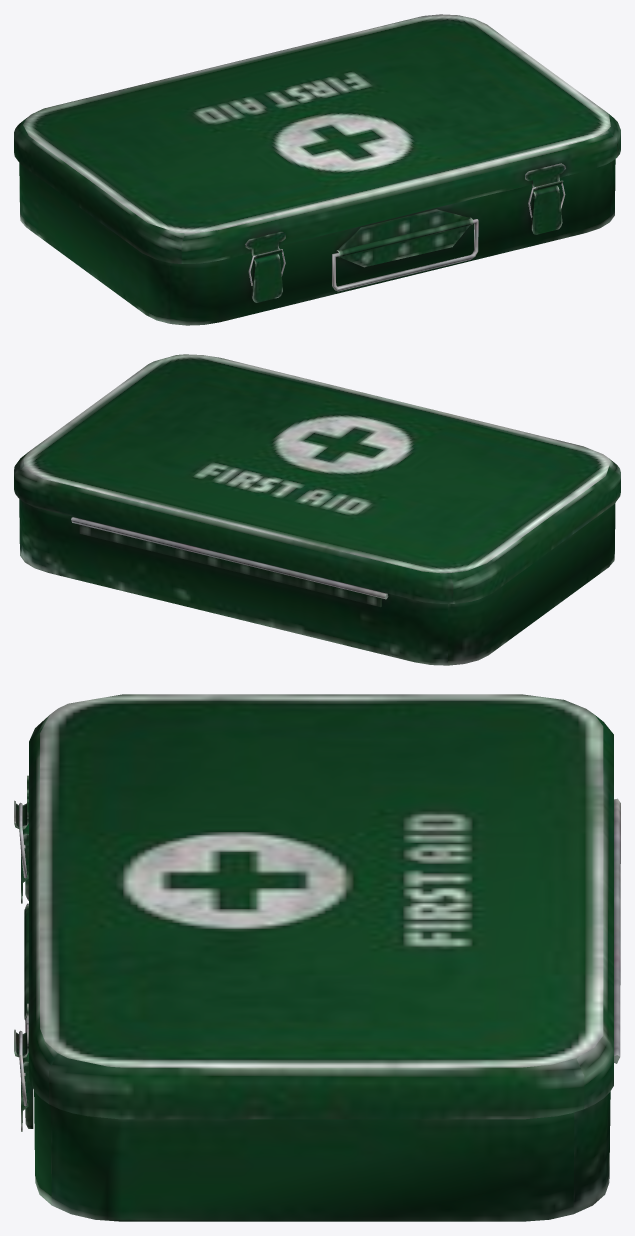
File: medical_box.gltf
The picture shows the model from 3 angles, top to bottom: view 1: azimuth 30°, elevation 25°; view 2: azimuth 150°, elevation 25°; view 3: azimuth 270°, elevation 25°; orthographic projection. The views are drawn at different scales.
Parts seen in each view (by area): view 1: medical_box_lid, medical_box, medical_box_latch, medical_box_handle; view 2: medical_box_lid, medical_box; view 3: medical_box_lid, medical_box.
Boxes of the visible parts, box(x1,y1,x2,y2) form: medical_box_lid: box(14, 14, 620, 263); medical_box: box(19, 159, 615, 325); medical_box_latch: box(251, 185, 562, 302); medical_box_handle: box(332, 219, 478, 291); medical_box_lid: box(14, 354, 620, 603); medical_box: box(19, 499, 615, 665); medical_box_lid: box(14, 694, 613, 1119); medical_box: box(24, 798, 620, 1221).
Bounding box in the file's own units: 0.5255 × 0.0967 × 0.3501.
Materials: 1 (1 with a texture image).
